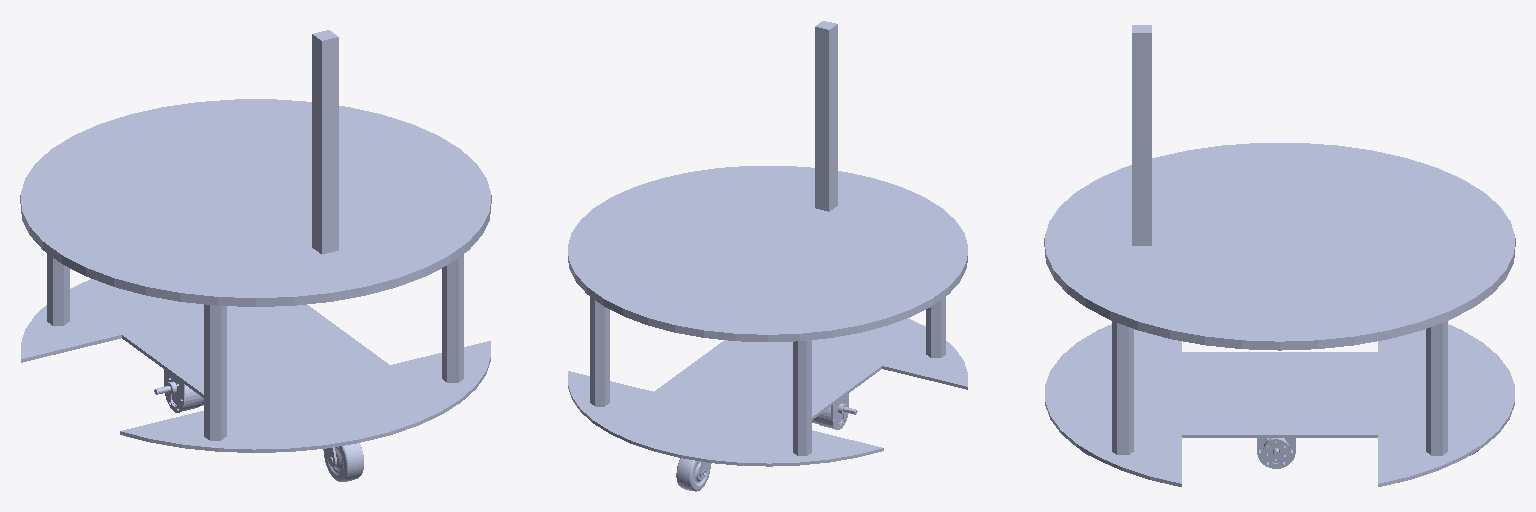
URDF robot description (mapping_robot_`1):
<?xml version="1.0" encoding="utf-8"?>
<!-- This URDF was automatically created by SolidWorks to URDF Exporter! Originally created by [author] ([email redacted]) 
     Commit Version: 1.6.0-1-g15f4949  Build Version: 1.6.7594.29634
     For more information, please see http://wiki.ros.org/sw_urdf_exporter -->
<robot
  name="mapping_robot_`1">
  <link
    name="base_link">
    <inertial>
      <origin
        xyz="-1.2419E-05 0.058341 -0.0022289"
        rpy="0 0 0" />
      <mass
        value="0.36019" />
      <inertia
        ixx="0.0011507"
        ixy="-7.6565E-12"
        ixz="4.6942E-11"
        iyy="0.0020673"
        iyz="1.3788E-10"
        izz="0.00097787" />
    </inertial>
    <visual>
      <origin
        xyz="0 0 0"
        rpy="0 0 0" />
      <geometry>
        <mesh
          filename="package://mapping_robot_`1/meshes/base_link.STL" />
      </geometry>
      <material
        name="">
        <color
          rgba="0.79216 0.81961 0.93333 1" />
      </material>
    </visual>
    <collision>
      <origin
        xyz="0 0 0"
        rpy="0 0 0" />
      <geometry>
        <mesh
          filename="package://mapping_robot_`1/meshes/base_link.STL" />
      </geometry>
    </collision>
  </link>
  <link
    name="Left_link">
    <inertial>
      <origin
        xyz="0.062002 -0.0092183 0.00012223"
        rpy="0 0 0" />
      <mass
        value="0.0047382" />
      <inertia
        ixx="2.7571E-06"
        ixy="-6.1198E-12"
        ixz="1.7319E-14"
        iyy="1.3915E-06"
        iyz="-3.1568E-13"
        izz="1.3915E-06" />
    </inertial>
    <visual>
      <origin
        xyz="0 0 0"
        rpy="0 0 0" />
      <geometry>
        <mesh
          filename="package://mapping_robot_`1/meshes/Left_link.STL" />
      </geometry>
      <material
        name="">
        <color
          rgba="0.79216 0.81961 0.93333 1" />
      </material>
    </visual>
    <collision>
      <origin
        xyz="0 0 0"
        rpy="0 0 0" />
      <geometry>
        <mesh
          filename="package://mapping_robot_`1/meshes/Left_link.STL" />
      </geometry>
    </collision>
  </link>
  <joint
    name="left_wheel"
    type="revolute">
    <origin
      xyz="0 0 0"
      rpy="0 0 0" />
    <parent
      link="base_link" />
    <child
      link="Left_link" />
    <axis
      xyz="1 0 0" />
    <limit
      lower="0"
      upper="0"
      effort="0"
      velocity="0" />
  </joint>
  <link
    name="Right_Link">
    <inertial>
      <origin
        xyz="0.051654 0.0014576 0.0090772"
        rpy="0 0 0" />
      <mass
        value="0.0047382" />
      <inertia
        ixx="2.7571E-06"
        ixy="-6.1198E-12"
        ixz="1.7319E-14"
        iyy="1.3915E-06"
        iyz="-3.1568E-13"
        izz="1.3915E-06" />
    </inertial>
    <visual>
      <origin
        xyz="0 0 0"
        rpy="0 0 0" />
      <geometry>
        <mesh
          filename="package://mapping_robot_`1/meshes/Right_Link.STL" />
      </geometry>
      <material
        name="">
        <color
          rgba="0.79216 0.81961 0.93333 1" />
      </material>
    </visual>
    <collision>
      <origin
        xyz="0 0 0"
        rpy="0 0 0" />
      <geometry>
        <mesh
          filename="package://mapping_robot_`1/meshes/Right_Link.STL" />
      </geometry>
    </collision>
  </link>
  <joint
    name="Right_wheel"
    type="revolute">
    <origin
      xyz="-0.010873 0.009058 -0.0074666"
      rpy="0 0 0" />
    <parent
      link="base_link" />
    <child
      link="Right_Link" />
    <axis
      xyz="-1 0 0" />
    <limit
      lower="0"
      upper="0"
      effort="0"
      velocity="0" />
  </joint>
</robot>

--- What the picture shows (computed from the rendered views, not written in the file) ---
3 views of the same robot in one strip: view 1: azimuth 30°, elevation 25°; view 2: azimuth 150°, elevation 25°; view 3: azimuth 270°, elevation 25° (orthographic).
Model mapping_robot_`1 with 3 links and 2 joints (2 revolute), rooted at base_link, posed every joint at zero.
Links seen in each view (by area): view 1: base_link; view 2: base_link; view 3: base_link.
Boxes of the visible links, x1,y1,x2,y2 form: base_link: (20,30,491,481); base_link: (568,21,967,491); base_link: (1044,25,1515,486).
Size in the robot's own frame: 0.2396 by 0.2398 by 0.2401 metres.
Meshes: 3 distinct files referenced, 1 mesh visuals loaded (1 binary STL); not drawn: 2 (reference not matched to a file when rendering).